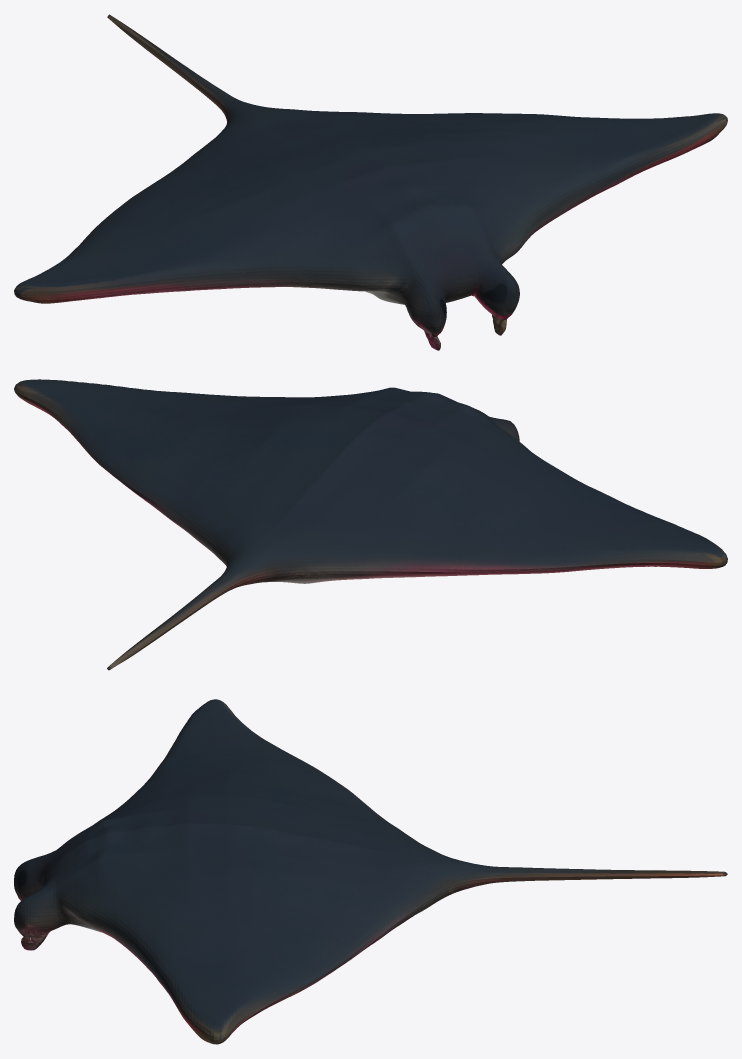
File: floater_mantaray.glb
3 views of the same model, one above another, from view 1: azimuth 30°, elevation 25°; view 2: azimuth 150°, elevation 25°; view 3: azimuth 270°, elevation 25° (orthographic). The views are drawn at different scales.
Visible parts, largest first — view 1: textured_mesh.obj; view 2: textured_mesh.obj; view 3: textured_mesh.obj.
Boxes of the visible parts, x1,y1,x2,y2 form: textured_mesh.obj: [14, 14, 727, 350]; textured_mesh.obj: [14, 379, 727, 670]; textured_mesh.obj: [14, 699, 727, 1044].
Bounding box in the file's own units: 1.99 × 0.3087 × 1.78.
Materials: 1 (1 with a texture image).
